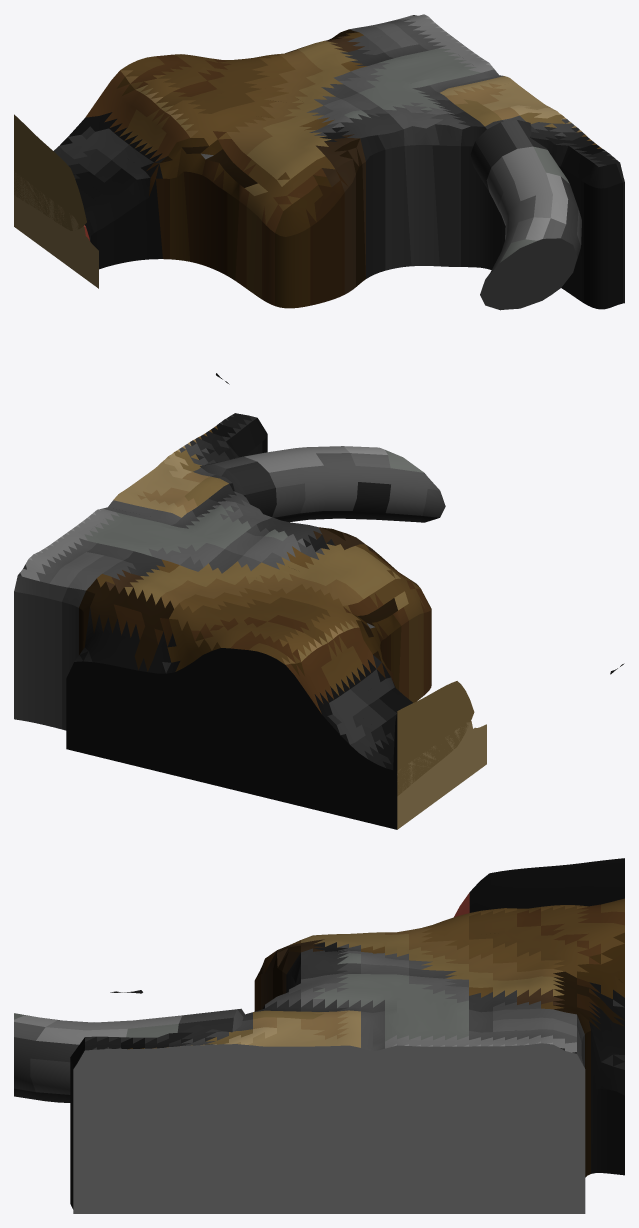
Rendered from tusk_boss_92.glb.
3 views of the same model, one above another, from view 1: azimuth 30°, elevation 25°; view 2: azimuth 150°, elevation 25°; view 3: azimuth 270°, elevation 25° (orthographic). The views are drawn at different scales.
Parts seen in each view (by area): view 1: tusk_boss_92_plates; view 2: tusk_boss_92_plates; view 3: tusk_boss_92_plates.
Boxes of the visible parts, x1,y1,x2,y2 form: tusk_boss_92_plates: (14, 14, 624, 384); tusk_boss_92_plates: (14, 413, 624, 829); tusk_boss_92_plates: (14, 858, 624, 1213).
Size of the model in its own units: 24 by 8.76 by 28.
